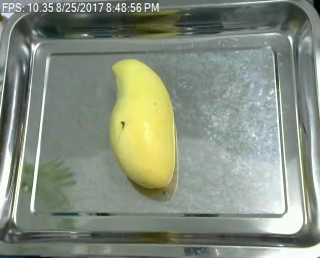Mango: (102, 56, 182, 194)
